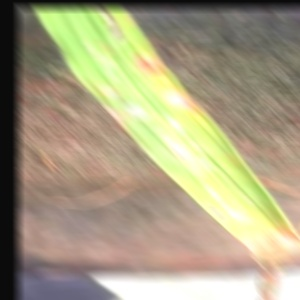Brown_Spot: (129, 45, 165, 81), (164, 85, 207, 113), (120, 98, 161, 127), (91, 77, 120, 104)
